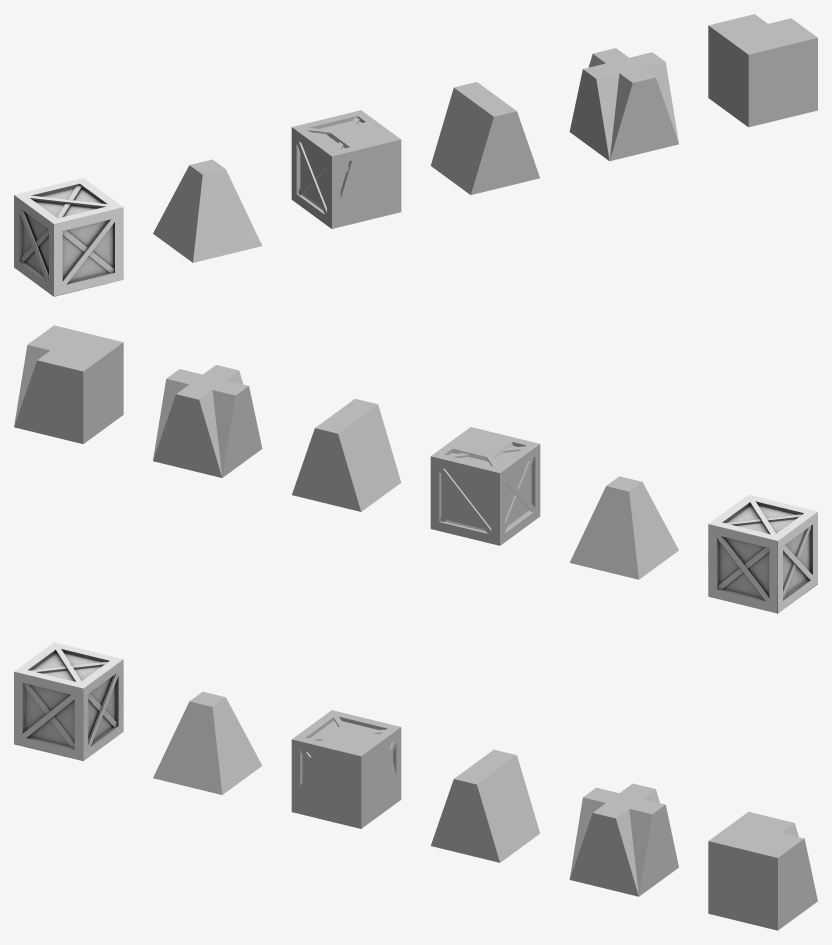
Rendered from Tile_Wall_Edge.obj.
The picture shows the model from 3 angles, top to bottom: view 1: azimuth 30°, elevation 25°; view 2: azimuth 150°, elevation 25°; view 3: azimuth 330°, elevation 25°; orthographic projection.
Visible parts, largest first — view 1: BoxTile.002_Cube.012, Cube.006_Cube.008, Cube.008_Cube.010, Cube.003_Cube, Cube.007_Cube.009, BoxTile_Cube.001, Cube.009_Cube.011, Cube.005_Cube.007, Cube_Cube.003, BoxTile.001_Cube.002, Cube.004_Cube.005, Cube.001_Cube.004 (+1 smaller); view 2: BoxTile.002_Cube.012, BoxTile_Cube.001, Cube.006_Cube.008, Cube.008_Cube.010, Cube_Cube.003, Cube.007_Cube.009, Cube.003_Cube, BoxTile.001_Cube.002, Cube.009_Cube.011, Cube.002_Cube.006, Cube.005_Cube.007, Cube.001_Cube.004; view 3: BoxTile.002_Cube.012, Cube.008_Cube.010, Cube.009_Cube.011, Cube.007_Cube.009, Cube.005_Cube.007, Cube.006_Cube.008, Cube.003_Cube, BoxTile_Cube.001, BoxTile.001_Cube.002, Cube.002_Cube.006, Cube_Cube.003, Cube.004_Cube.005 (+1 smaller).
Part boxes in pixels (bbox=[...]): BoxTile.002_Cube.012: bbox=[14, 178, 123, 296]; Cube.006_Cube.008: bbox=[708, 14, 817, 127]; Cube.008_Cube.010: bbox=[430, 82, 539, 194]; Cube.003_Cube: bbox=[709, 18, 817, 126]; Cube.007_Cube.009: bbox=[153, 159, 262, 262]; BoxTile_Cube.001: bbox=[291, 110, 401, 228]; Cube.009_Cube.011: bbox=[606, 52, 678, 160]; Cube.005_Cube.007: bbox=[302, 121, 401, 228]; Cube_Cube.003: bbox=[569, 48, 639, 160]; BoxTile.001_Cube.002: bbox=[14, 179, 123, 295]; Cube.004_Cube.005: bbox=[326, 131, 401, 228]; Cube.001_Cube.004: bbox=[455, 88, 535, 192]; BoxTile.002_Cube.012: bbox=[708, 494, 817, 613]; BoxTile_Cube.001: bbox=[430, 427, 540, 545]; Cube.006_Cube.008: bbox=[14, 331, 123, 444]; Cube.008_Cube.010: bbox=[292, 399, 400, 511]; Cube_Cube.003: bbox=[153, 375, 262, 477]; Cube.007_Cube.009: bbox=[569, 476, 678, 579]; Cube.003_Cube: bbox=[14, 325, 123, 443]; BoxTile.001_Cube.002: bbox=[708, 495, 817, 612]; Cube.009_Cube.011: bbox=[153, 365, 242, 459]; Cube.002_Cube.006: bbox=[571, 478, 677, 579]; Cube.005_Cube.007: bbox=[445, 427, 530, 531]; Cube.001_Cube.004: bbox=[317, 400, 400, 506]; BoxTile.002_Cube.012: bbox=[14, 642, 123, 761]; Cube.008_Cube.010: bbox=[431, 749, 539, 862]; Cube.009_Cube.011: bbox=[569, 793, 678, 896]; Cube.007_Cube.009: bbox=[153, 691, 262, 794]; Cube.005_Cube.007: bbox=[292, 726, 401, 828]; Cube.006_Cube.008: bbox=[708, 811, 798, 930]; Cube.003_Cube: bbox=[708, 823, 817, 930]; BoxTile_Cube.001: bbox=[291, 710, 401, 828]; BoxTile.001_Cube.002: bbox=[14, 644, 122, 759]; Cube.002_Cube.006: bbox=[154, 692, 261, 794]; Cube_Cube.003: bbox=[569, 783, 659, 878]; Cube.004_Cube.005: bbox=[292, 727, 400, 827].
Bounding box in the file's own units: 22 × 2 × 2.
